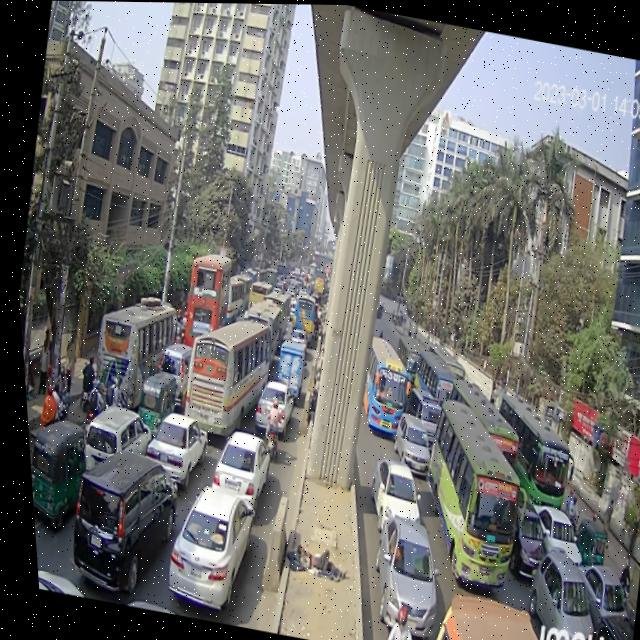cng: (21, 408, 97, 523), (122, 366, 177, 440), (559, 513, 605, 573)
